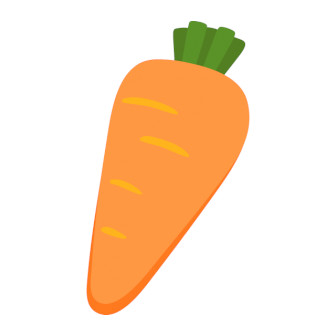carrot: (83, 16, 255, 318)
